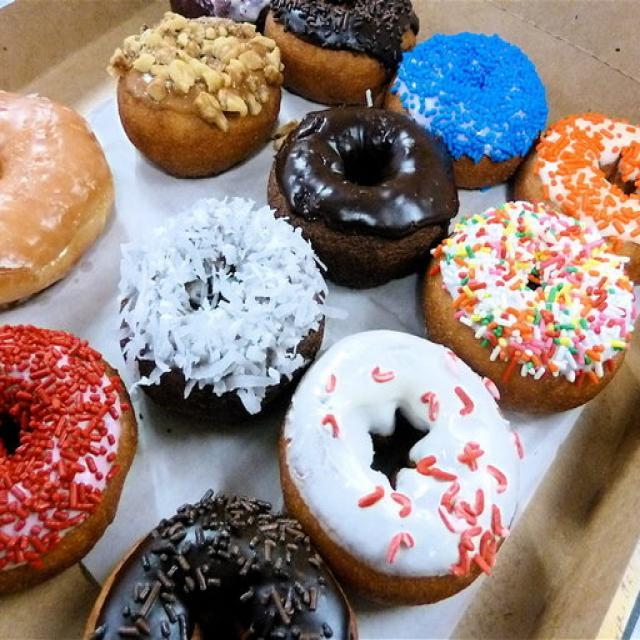Donuts: (1, 1, 623, 639)
